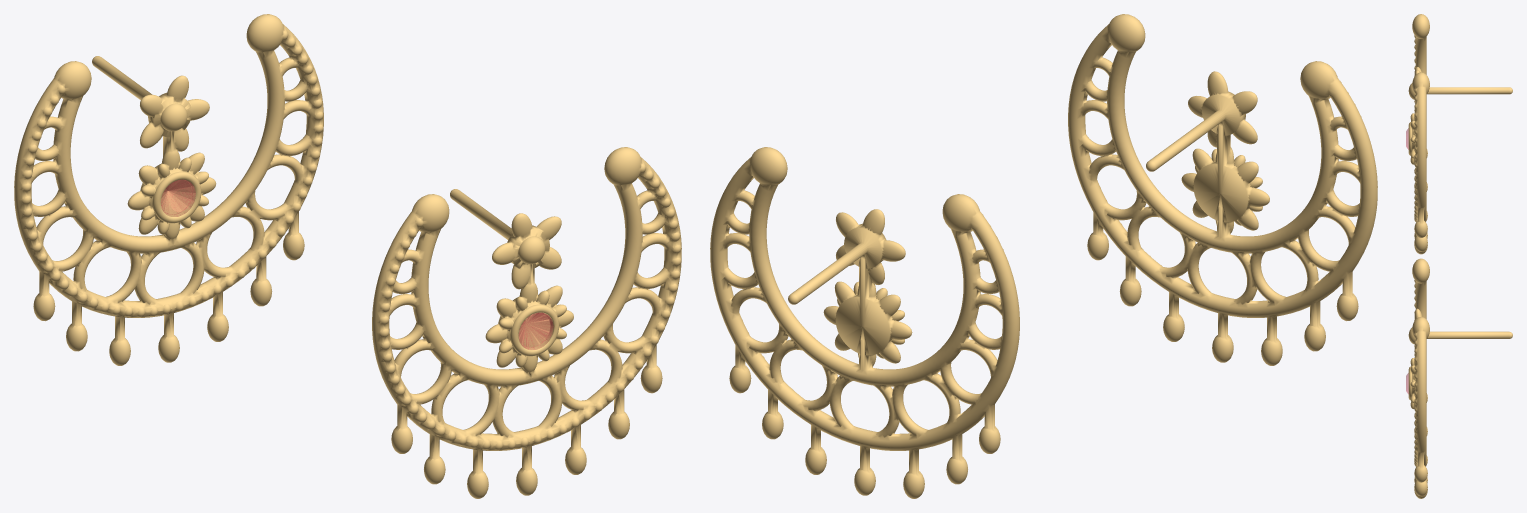
Rendered from earring_chandbali.glb.
3 views of the same model, side by side, from view 1: azimuth 30°, elevation 25°; view 2: azimuth 150°, elevation 25°; view 3: azimuth 270°, elevation 25° (orthographic). The views are drawn at different scales.
Parts seen in each view (by area): view 1: gold_pair, gold, med_stone_pair, med_stone; view 2: gold, gold_pair; view 3: gold_pair, gold.
Boxes of the visible parts, bbox=[...] form: gold_pair: bbox=[372, 147, 681, 498]; gold: bbox=[14, 14, 323, 365]; med_stone_pair: bbox=[519, 313, 553, 349]; med_stone: bbox=[161, 180, 195, 216]; gold: bbox=[1068, 14, 1377, 365]; gold_pair: bbox=[710, 147, 1019, 498]; gold_pair: bbox=[1408, 258, 1512, 498]; gold: bbox=[1408, 14, 1512, 254].
Size of the model in its own units: 0.0528 by 0.0413 by 0.0119.
